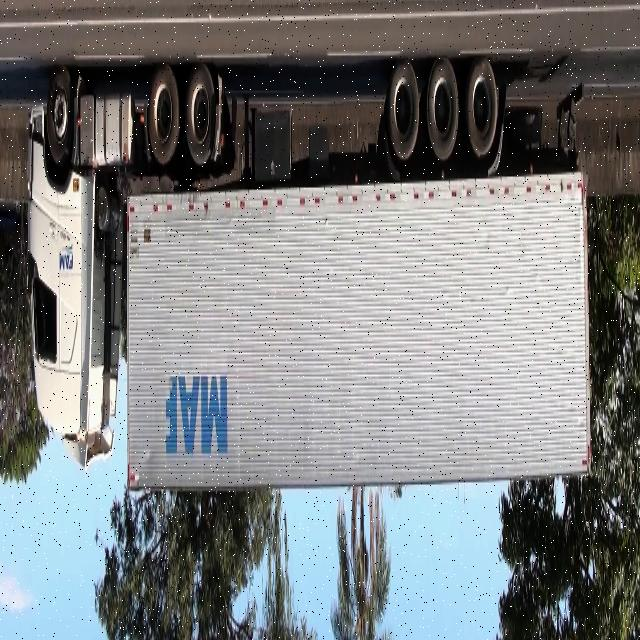-axle: (184, 61, 219, 166), (42, 65, 76, 172), (146, 65, 180, 166), (425, 59, 459, 158), (387, 59, 420, 161), (466, 60, 496, 155)
